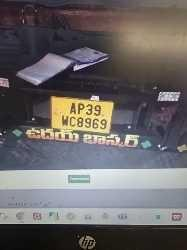License plate: (51, 97, 114, 133)
